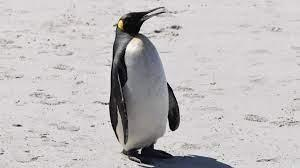king: (102, 2, 188, 164)
